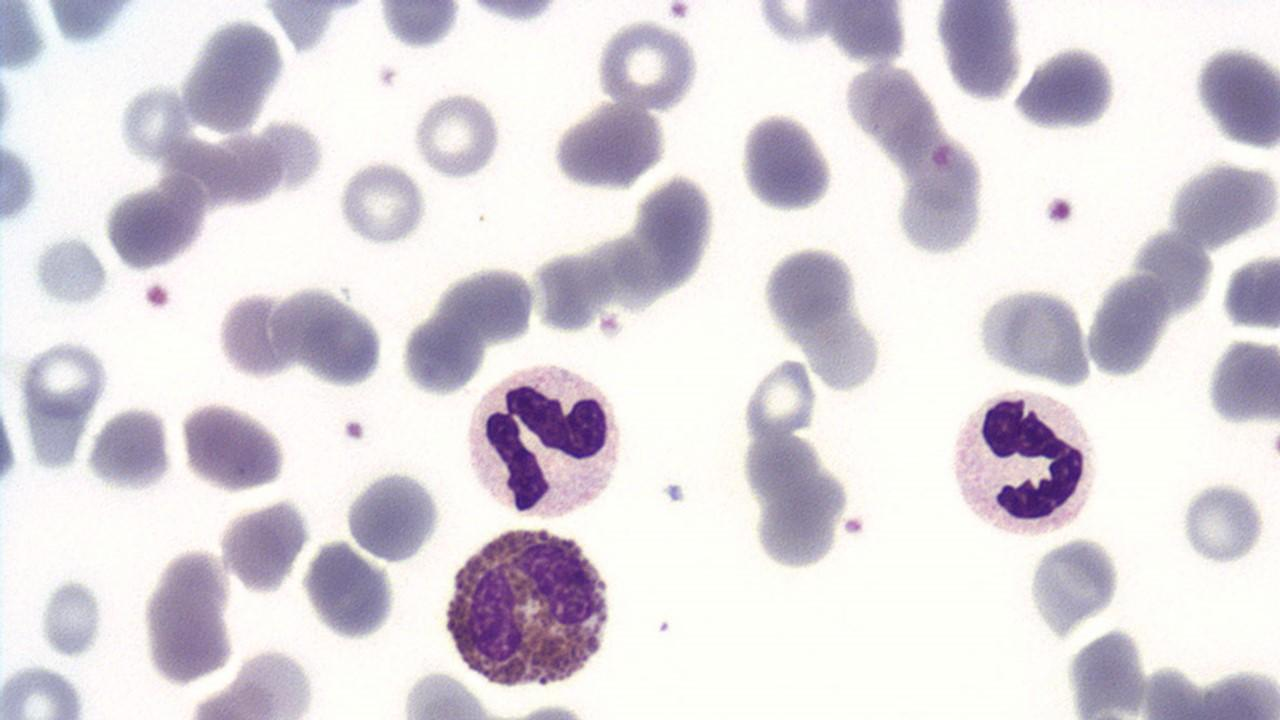Platelets: (546, 102, 669, 194), (736, 110, 836, 215), (1008, 44, 1120, 135), (1025, 534, 1121, 640), (1190, 42, 1280, 152), (756, 244, 862, 334), (892, 166, 984, 260), (218, 498, 308, 594), (83, 401, 173, 496), (1061, 626, 1153, 718), (750, 490, 838, 573), (399, 313, 481, 398), (1201, 338, 1279, 427), (35, 576, 108, 660), (29, 236, 111, 306), (0, 662, 90, 717), (1220, 252, 1280, 333), (0, 138, 44, 228), (0, 3, 51, 78), (465, 1, 566, 26), (0, 397, 19, 492), (0, 65, 18, 141), (1041, 193, 1077, 230), (140, 280, 175, 314), (340, 416, 369, 444), (1266, 424, 1280, 469)
RBC: (593, 16, 701, 114), (178, 398, 289, 492), (1190, 39, 1280, 152), (220, 496, 310, 594), (298, 289, 384, 390), (411, 89, 503, 182), (83, 402, 174, 495), (335, 158, 429, 248), (19, 338, 110, 424), (217, 286, 295, 382), (742, 355, 820, 443), (116, 80, 191, 165), (270, 285, 332, 374), (0, 660, 87, 718)
WBC: (439, 520, 620, 694), (459, 355, 628, 524), (942, 383, 1103, 542), (137, 543, 237, 689), (976, 282, 1093, 389), (545, 99, 669, 194), (890, 150, 990, 266), (99, 173, 211, 272), (736, 109, 836, 217), (181, 396, 292, 492), (1024, 535, 1124, 641), (300, 538, 400, 644), (342, 465, 443, 566), (1010, 44, 1120, 136), (934, 0, 1024, 107), (218, 495, 311, 595), (85, 401, 175, 495), (1203, 336, 1279, 428), (374, 1, 466, 52)
